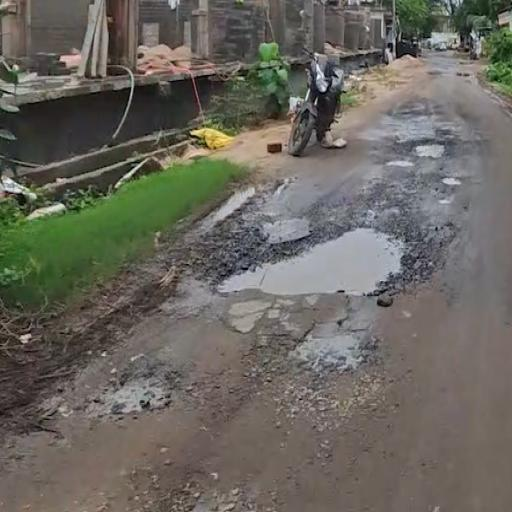pothole: (196, 195, 484, 350), (80, 331, 182, 451), (376, 104, 475, 190)
ravelling: (196, 359, 429, 493)
